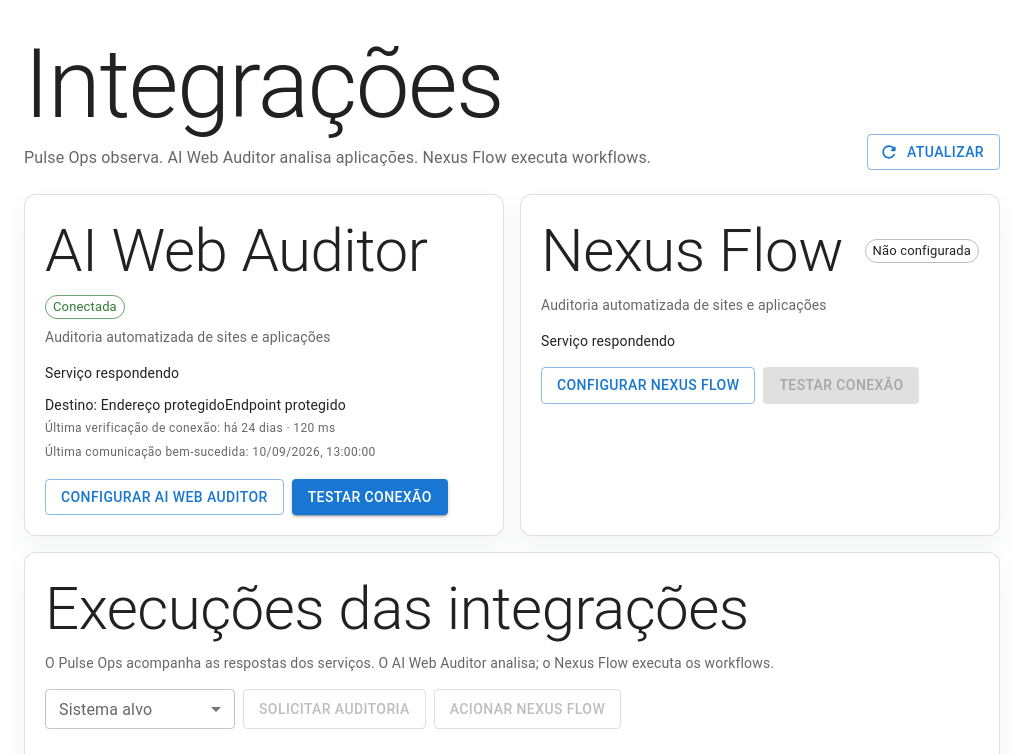
Test: Specialized integrations › shows a real connection failure without inventing success
The image size is (1024, 754).
Click the button with aria-label "Testar conexão com AI Web Auditor". click: (370, 497)
box: [292,479,448,515]
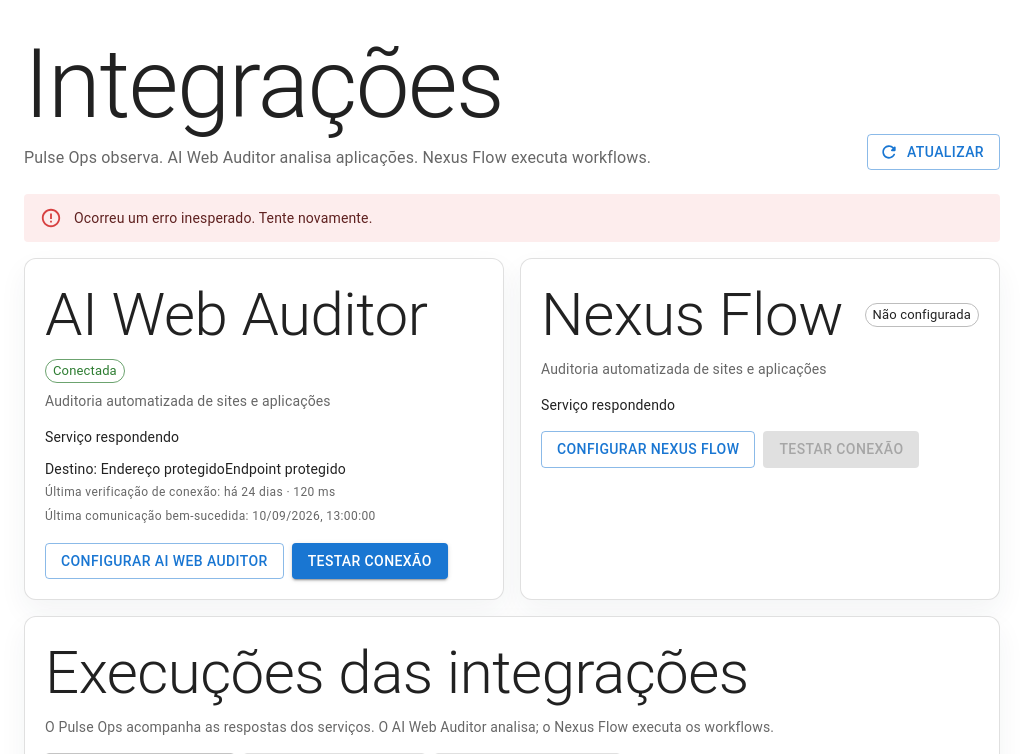
Expected: the button with aria-label "Testar conexão com AI Web Auditor" is enabled, [292,543,448,579]
Expected: the message "Ocorreu um erro inesperado. Tente novamente." is shown, [24,194,1000,242]
